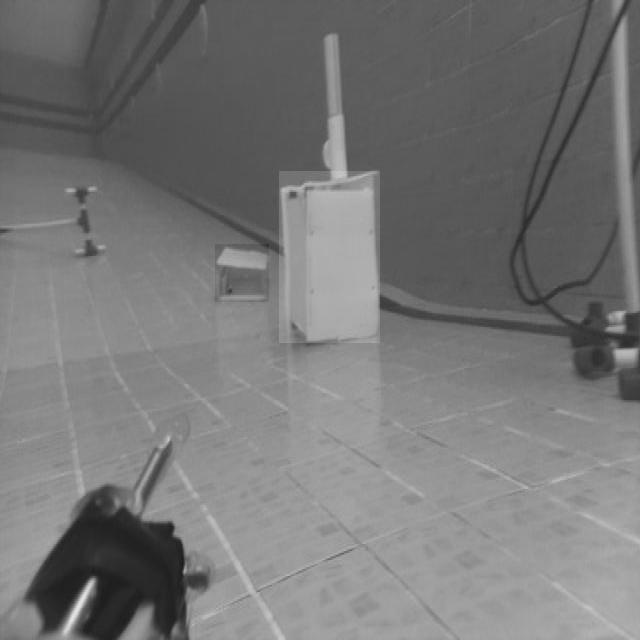Cube: (279, 171, 380, 343)
Cuboid: (215, 244, 269, 302)
